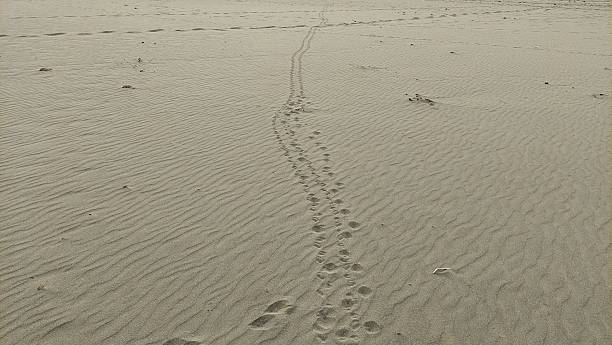animal_foot_print: (272, 12, 371, 343), (248, 298, 295, 329)
